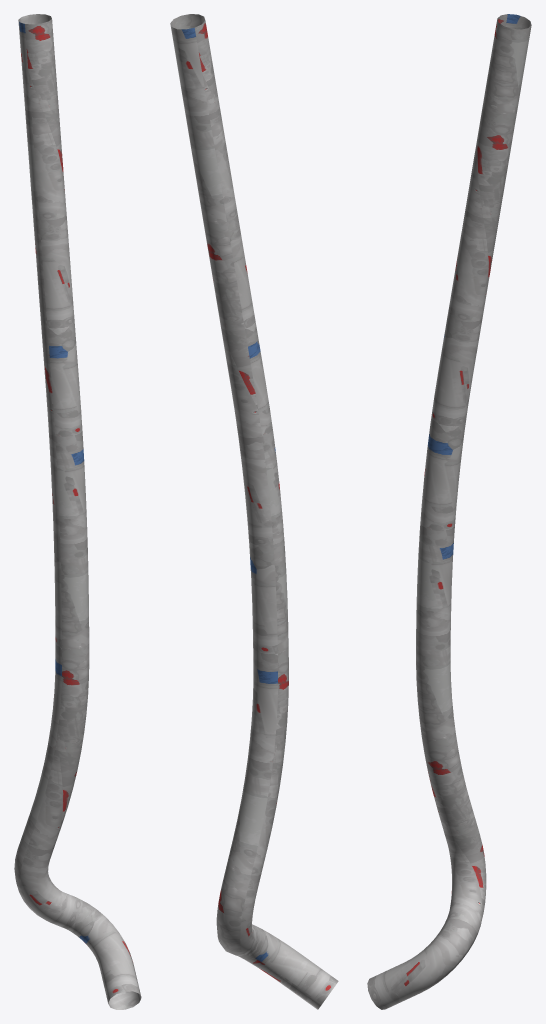
The model's file is Pipe__17.fbx.
3 views of the same model, side by side, from view 1: azimuth 90°, elevation 25°; view 2: azimuth 150°, elevation 25°; view 3: azimuth 330°, elevation 25° (orthographic). The views are drawn at different scales.
Visible parts, largest first — view 1: MAT_Pipe_01; view 2: MAT_Pipe_01; view 3: MAT_Pipe_01.
Boxes of the visible parts, x1,y1,x2,y2 form: MAT_Pipe_01: (14, 14, 141, 1009); MAT_Pipe_01: (170, 14, 338, 1009); MAT_Pipe_01: (367, 14, 531, 1009).
Size of the model in its own units: 2.27 by 18.51 by 2.24.
Materials: 1 (1 with a texture image).
